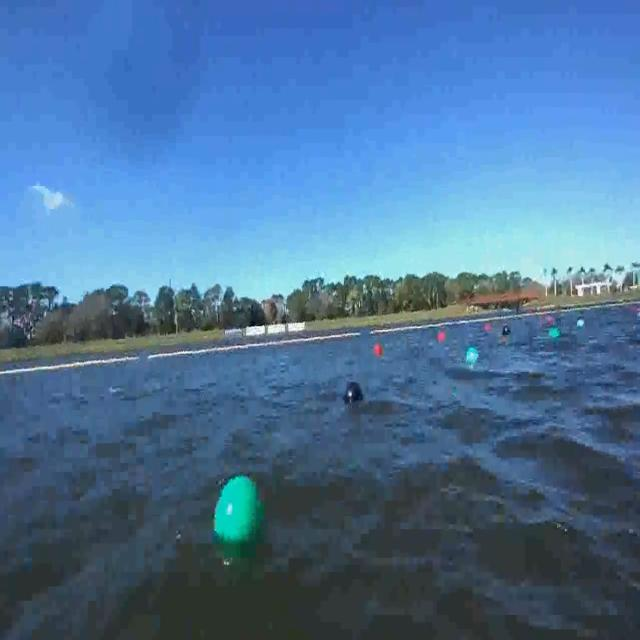black-buoy: (345, 376, 364, 406), (502, 324, 511, 335)
green-buoy: (214, 476, 264, 549), (467, 346, 481, 364), (550, 326, 561, 338)
red-buoy: (375, 344, 384, 357), (439, 332, 447, 344)
